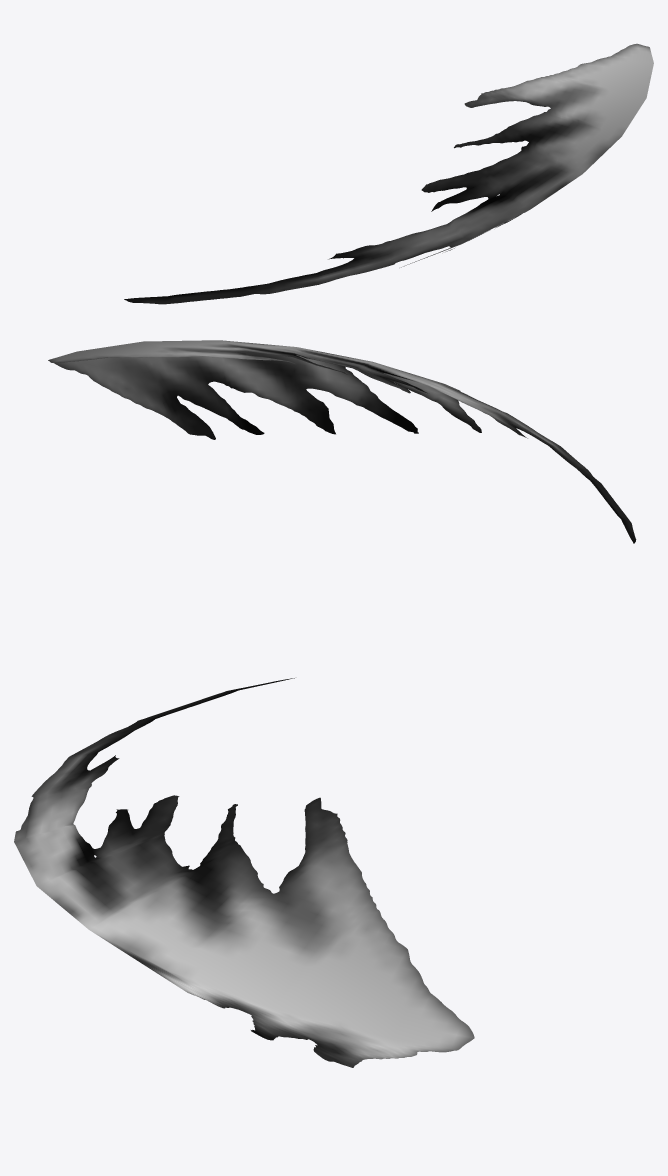
The model's file is EffToonlinkKaitengiriAirSword.obj.
3 renders of one model, top to bottom at view 1: azimuth 30°, elevation 25°; view 2: azimuth 150°, elevation 25°; view 3: azimuth 270°, elevation 25°, orthographic. The views are drawn at different scales.
Visible parts, largest first — view 1: polygon0; view 2: polygon0; view 3: polygon0.
Boxes of the visible parts, bbox=[...] form: polygon0: bbox=[124, 43, 653, 304]; polygon0: bbox=[48, 340, 636, 543]; polygon0: bbox=[14, 678, 474, 1067].
Size of the model in its own units: 30.33 by 8.61 by 13.49.
1 material, 1 textured.
